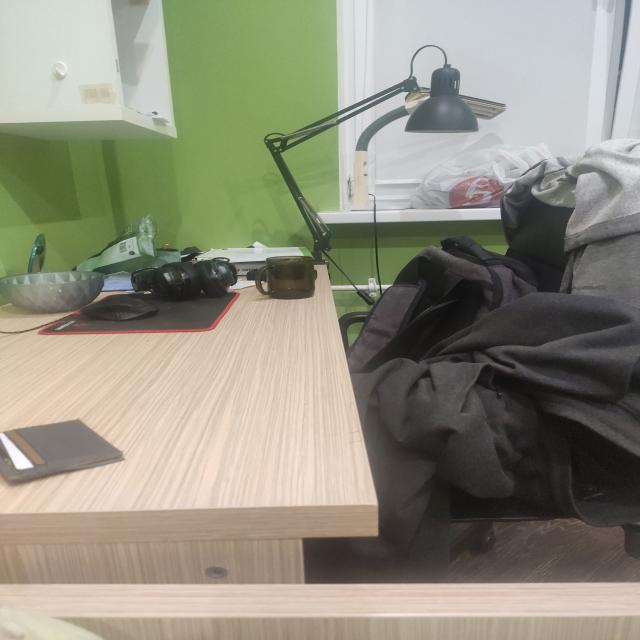cups: (255, 256, 317, 299)
